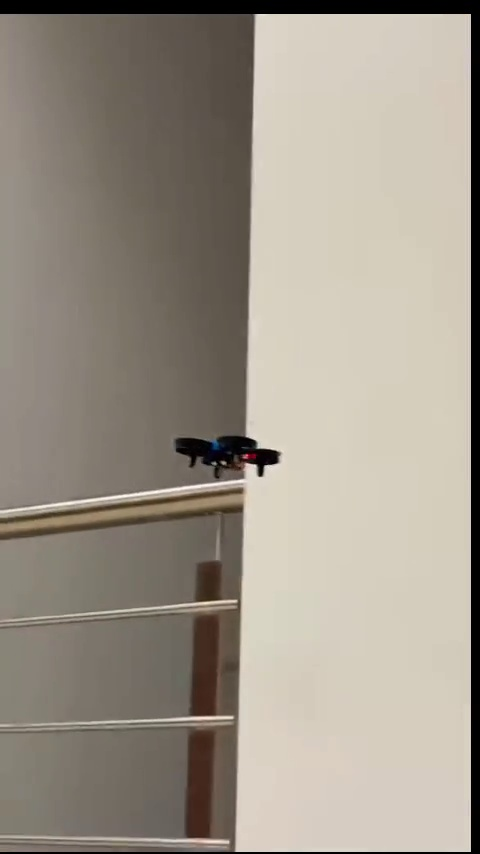drone: (175, 433, 281, 478)
